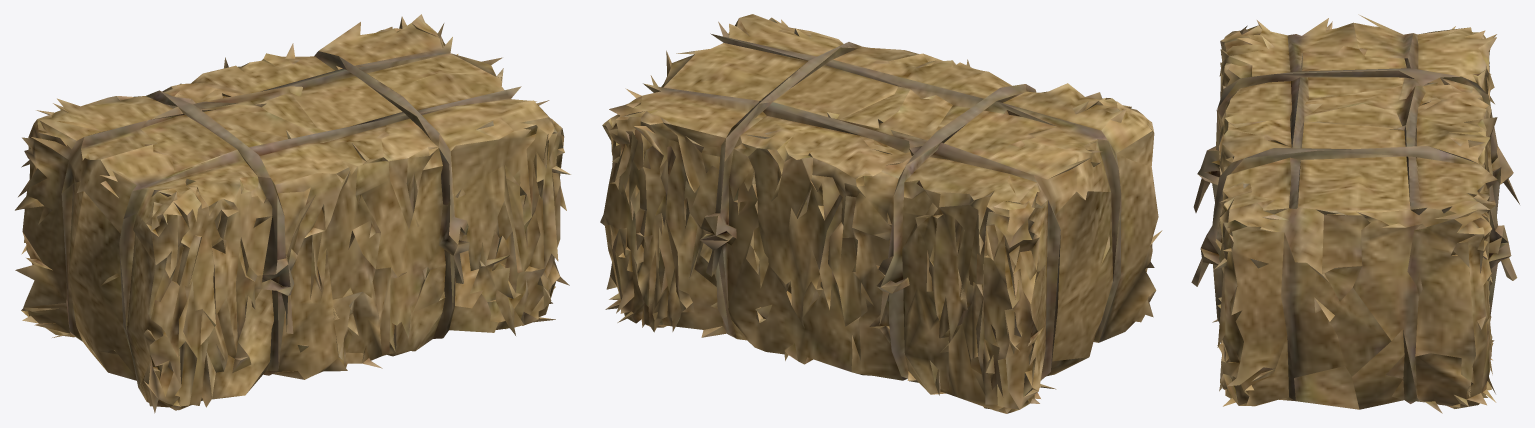
File: hay.glb
3 views of the same model, side by side, from view 1: azimuth 30°, elevation 25°; view 2: azimuth 150°, elevation 25°; view 3: azimuth 270°, elevation 25° (orthographic). The views are drawn at different scales.
Visible parts, largest first — view 1: geometry_0; view 2: geometry_0; view 3: geometry_0.
Part boxes in pixels (bbox=[...]): geometry_0: bbox=[15, 14, 570, 413]; geometry_0: bbox=[600, 14, 1162, 413]; geometry_0: bbox=[1191, 14, 1519, 413].
Bounding box in the file's own units: 1.8 × 0.8981 × 1.24.
1 material, 1 textured.
